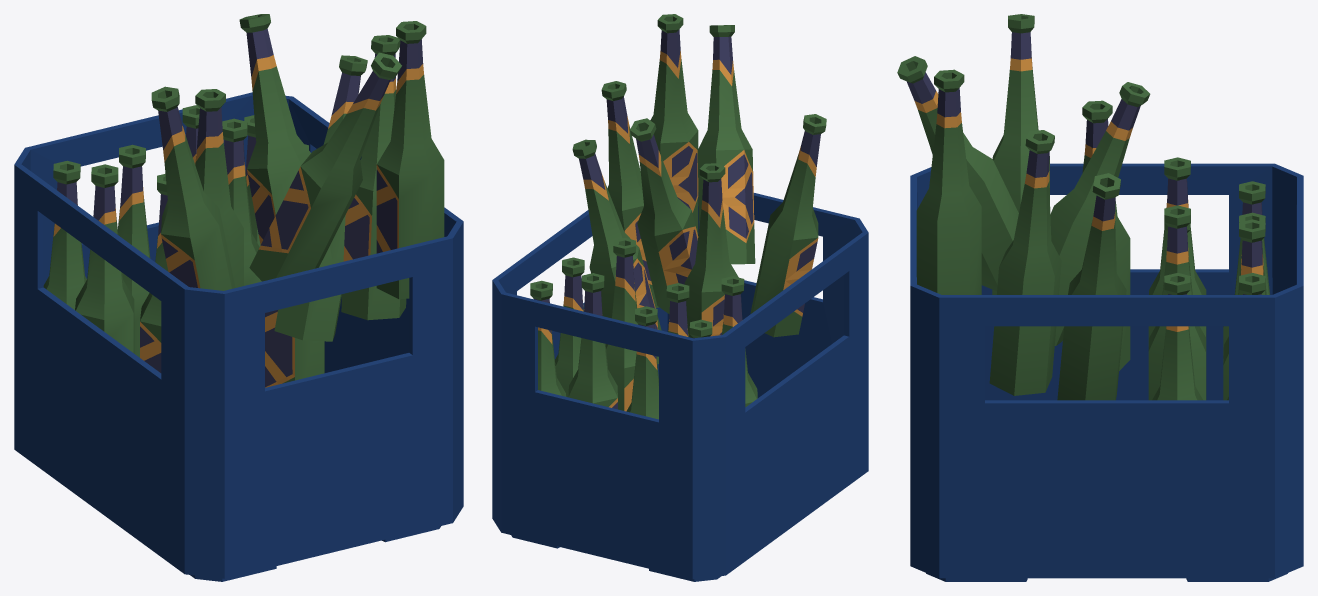
The model's file is BeerCrate.glb.
3 renders of one model, left to right at view 1: azimuth 30°, elevation 25°; view 2: azimuth 150°, elevation 25°; view 3: azimuth 270°, elevation 25°, orthographic. The views are drawn at different scales.
Visible parts, largest first — view 1: Cube.014; view 2: Cube.014; view 3: Cube.014.
Boxes of the visible parts, left/top/right/bottom form: Cube.014: left=14, top=14, right=463, bottom=581; Cube.014: left=492, top=14, right=868, bottom=581; Cube.014: left=897, top=14, right=1303, bottom=581.
Size of the model in its own units: 1.21 by 2.06 by 1.55.
